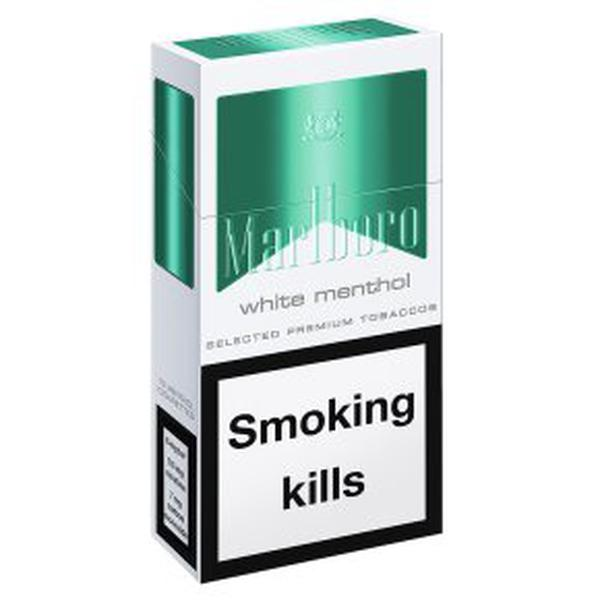marlboro_mentol: (202, 56, 438, 532)
